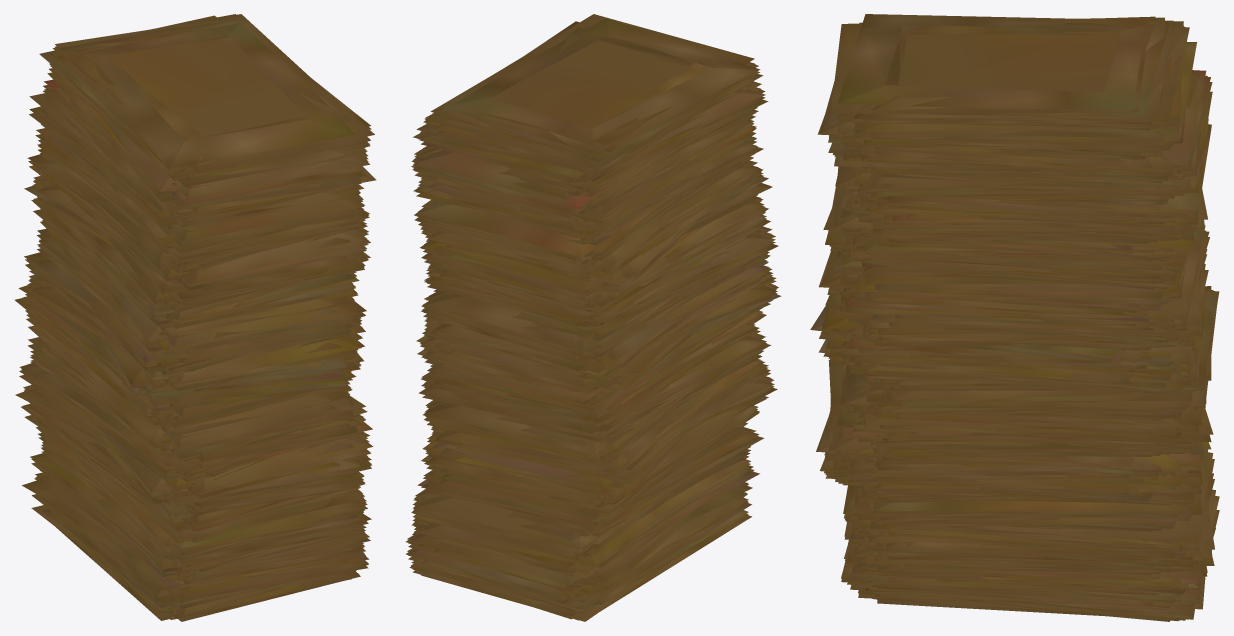
File: papeis.glb
3 renders of one model, left to right at view 1: azimuth 30°, elevation 25°; view 2: azimuth 150°, elevation 25°; view 3: azimuth 270°, elevation 25°, orthographic. The views are drawn at different scales.
Visible parts, largest first — view 1: Node; view 2: Node; view 3: Node.
Boxes of the visible parts, x1=… form: Node: x1=15, y1=14, x2=376, y2=621; Node: x1=406, y1=14, x2=781, y2=621; Node: x1=810, y1=14, x2=1219, y2=621.
Bounding box in the file's own units: 30.09 × 55.07 × 39.75.
Materials: 1 (1 with a texture image).
